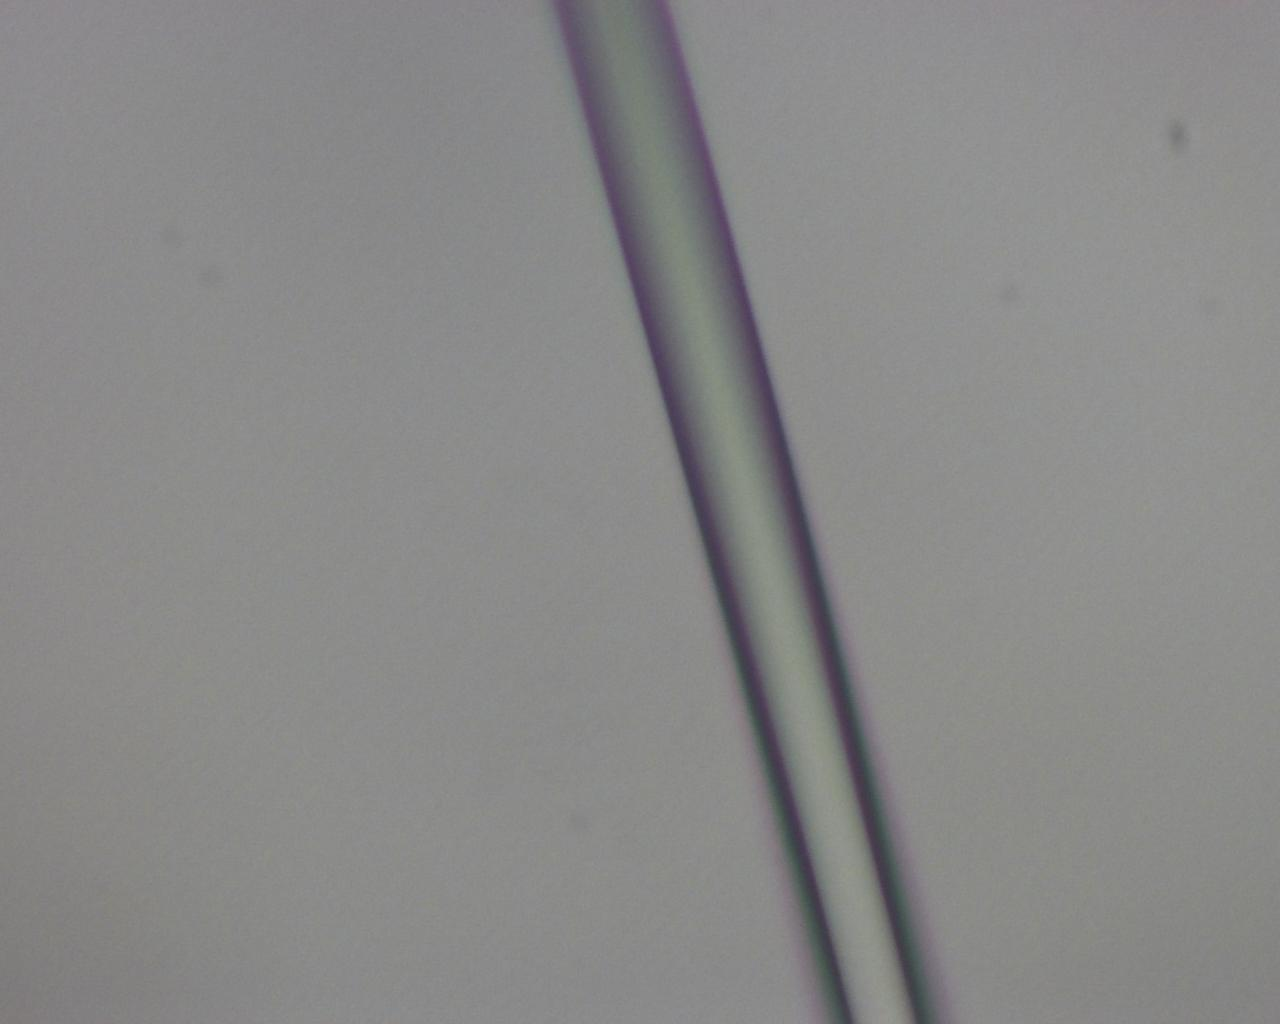fiber: (270, 0, 797, 1024)
